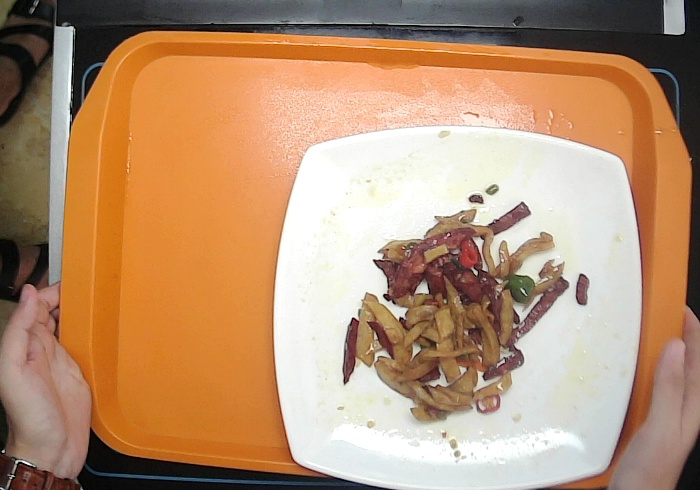ZNLD-Bai_Fang_Pan: (270, 123, 644, 490)
